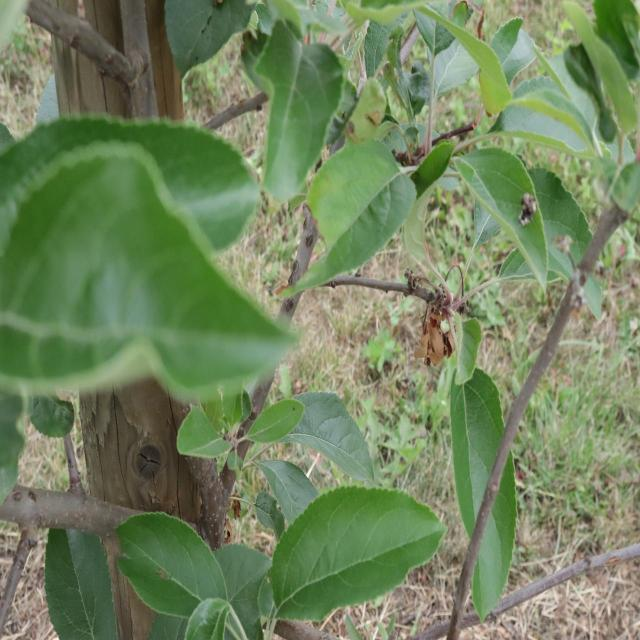-FireBlight-: (416, 280, 456, 367)
